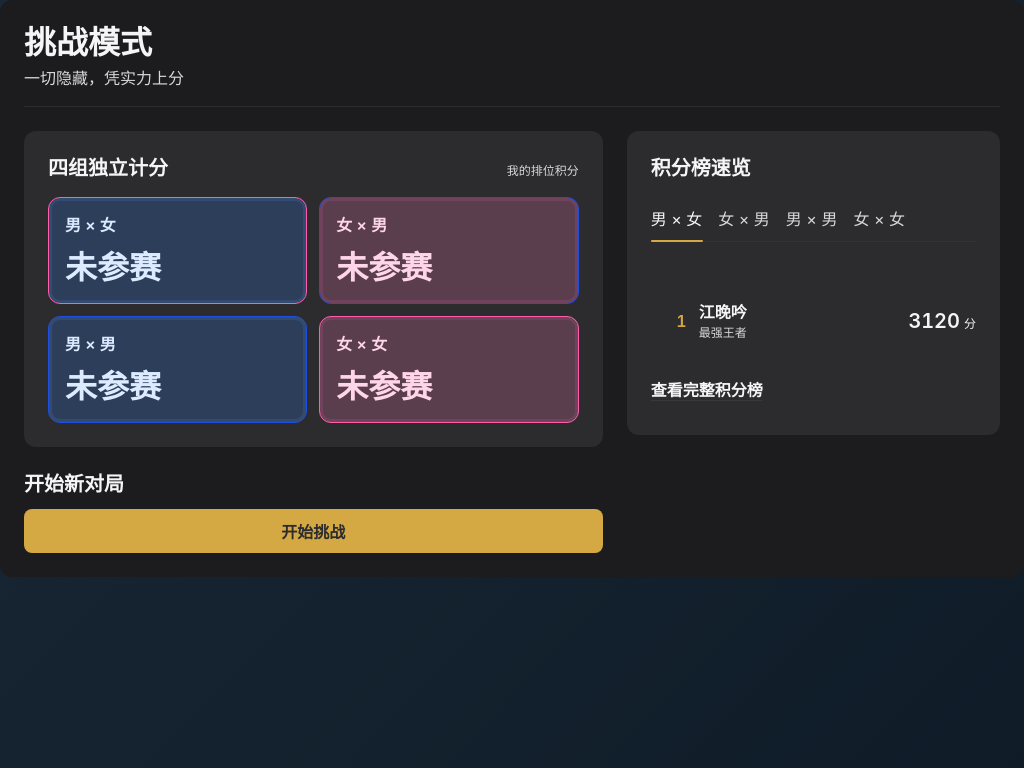
Test: FP-13 空态永久灰与榜单四态单一源 › 主页快速连续切组只接受最后一次响应
Click the button with class "zu-anniu" showing "女 × 男".
click(744, 219)  # box [718,197,770,241]
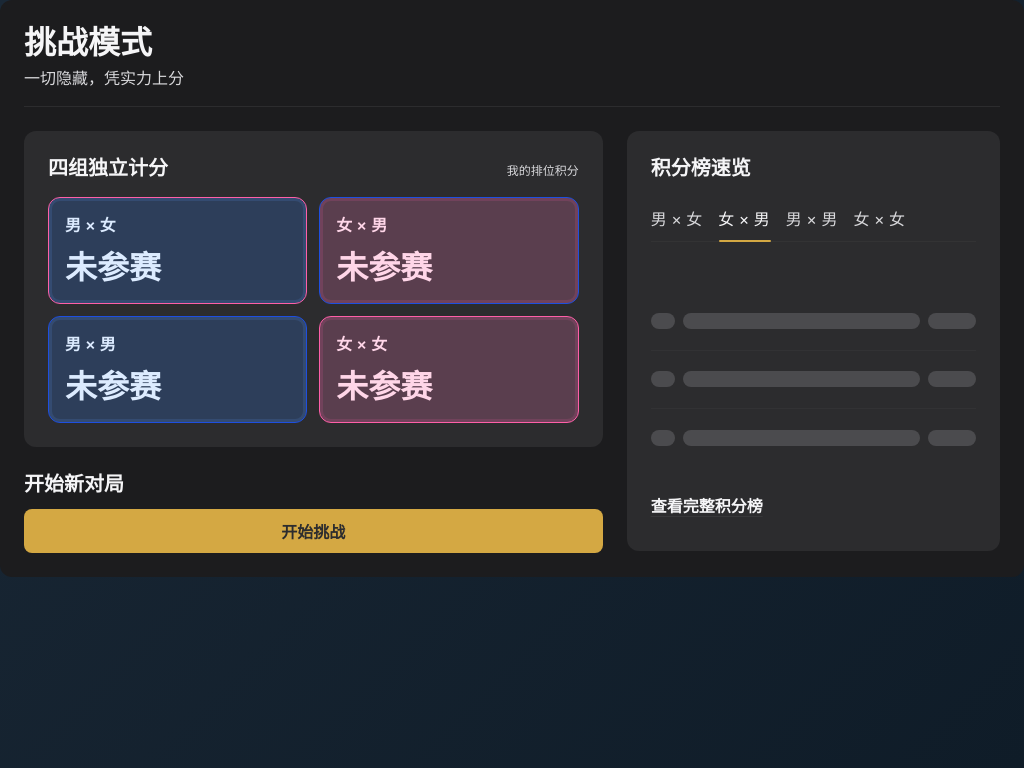
Click the button with class "zu-anniu" showing "男 × 男".
click(812, 219)  # box [786,197,837,241]
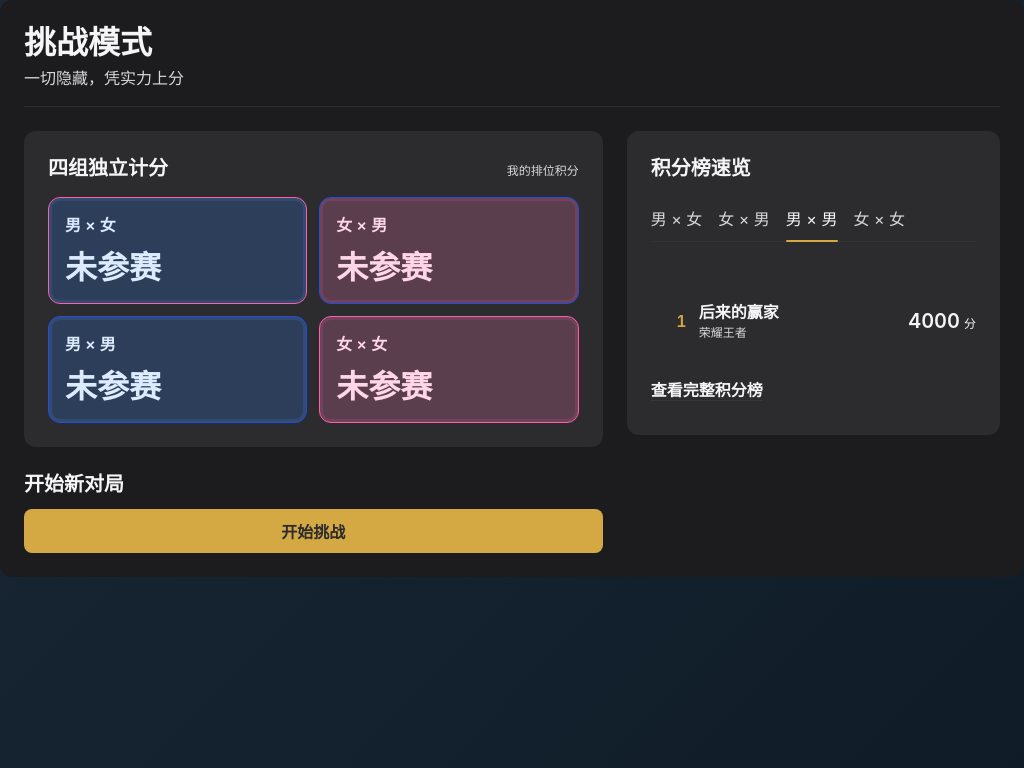
expect the text "江晚吟" is not shown: met
expect the list item with class "zhaiyao-hang" shows "后来的赢家": met, box [699,302,779,322]
